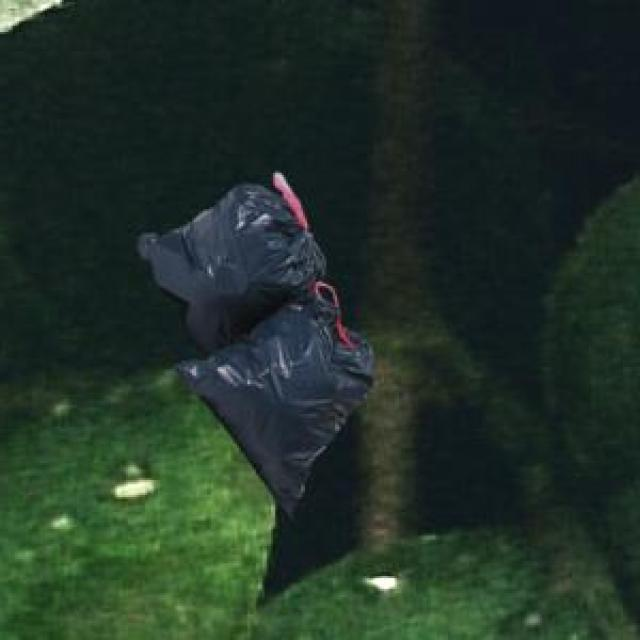Trashbag: (176, 312, 376, 516), (130, 177, 325, 329)
